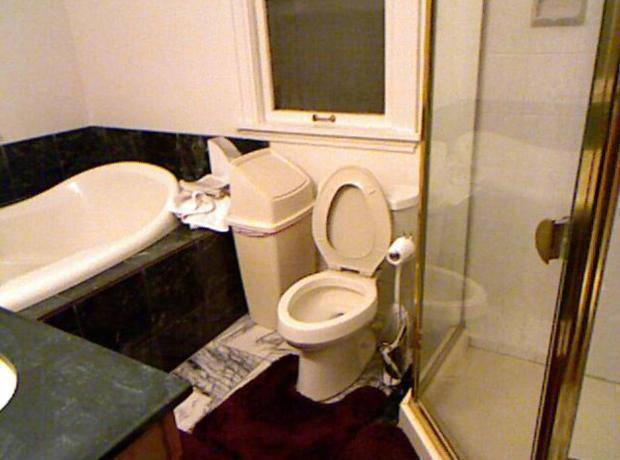Bote de Basura: (225, 147, 319, 335)
Ducha: (424, 0, 618, 456)
Sanitario: (275, 165, 417, 404)
